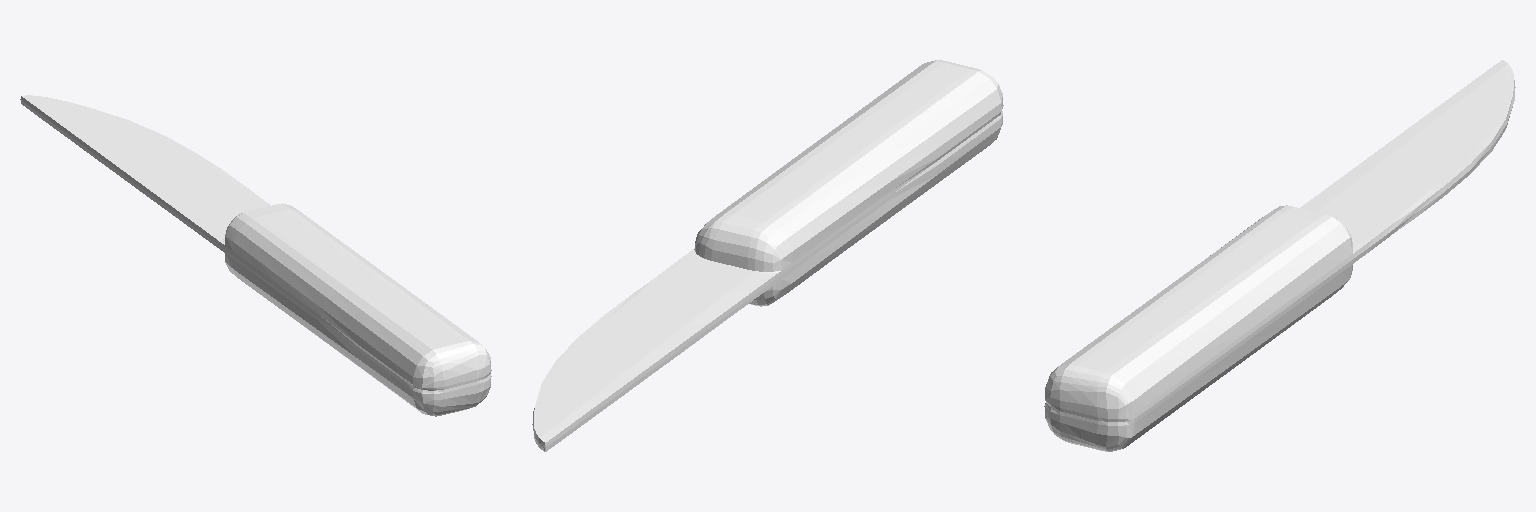
The robot description file, URDF, robot "kitchen_knife":
<?xml version="1.0" ?>
<robot name="kitchen_knife">
  <link name="base">
    <inertial>
        <origin rpy="0 0 0" xyz="0 0 0"/>
        <mass value="1.0"/>
        <inertia ixx="1" ixy="0" ixz="0" iyy="1" iyz="0" izz="1"/>
    </inertial>
   <visual>
     <origin rpy="0 0 0" xyz="0 0 0"/>
     <geometry>
       <mesh filename="kitchen_knife.obj" scale="1 1 1"/>
     </geometry>
      <material name="white">
       <color rgba="1 1 1 1"/>
     </material>
   </visual>
   <collision>
     <origin rpy="0 0 0" xyz="0 0 0"/>
     <geometry>
       <mesh filename="kitchen_knife_vhacd.obj" scale="1 1 1"/>
     </geometry>
   </collision>
  </link>
  <link name="grasp">
    <inertial>
      <origin rpy="0 0 0" xyz="0 0 0"/>
       <mass value="0.0"/>
       <inertia ixx="1" ixy="0" ixz="0" iyy="1" iyz="0" izz="1"/>
    </inertial>
  </link>
  <joint name="base__grasp" type="fixed">
    <origin xyz="0.0 -0.05 0.0" rpy="0.0 0.0 0.0"/>
    <parent link="base"/>
    <child link="grasp"/>
  </joint>
</robot>

--- What the picture shows (computed from the rendered views, not written in the file) ---
Views: 3 orthographic renders of the robot side by side, from view 1: azimuth 30°, elevation 25°; view 2: azimuth 150°, elevation 25°; view 3: azimuth 330°, elevation 25°.
Model kitchen_knife with 2 links and 1 joints (1 fixed), rooted at base, posed every joint at zero.
Links seen in each view (by area): view 1: base; view 2: base; view 3: base.
Boxes of the visible links, x1,y1,x2,y2 form: base: (20,95,491,416); base: (532,60,1003,451); base: (1044,60,1515,451).
Bounding box of the posed robot: 0.0496 × 0.45 × 0.0407 m (x, y, z).
1 mesh visuals loaded from 1 distinct referenced files (1 OBJ).